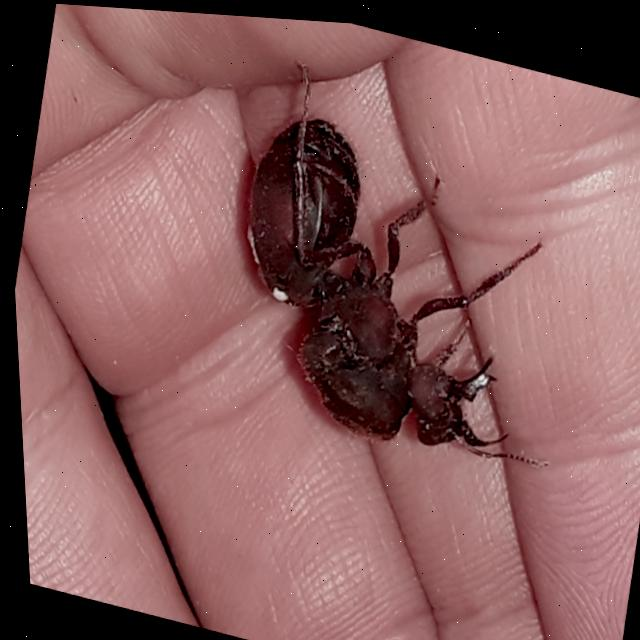Dead-Female-Dealate: (201, 46, 609, 481)
